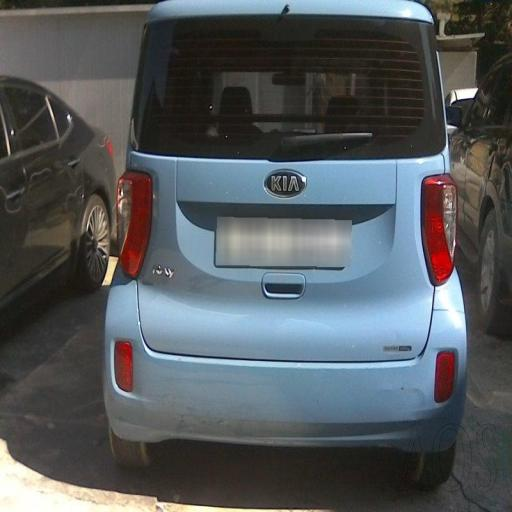scratch: (116, 353, 455, 480)
